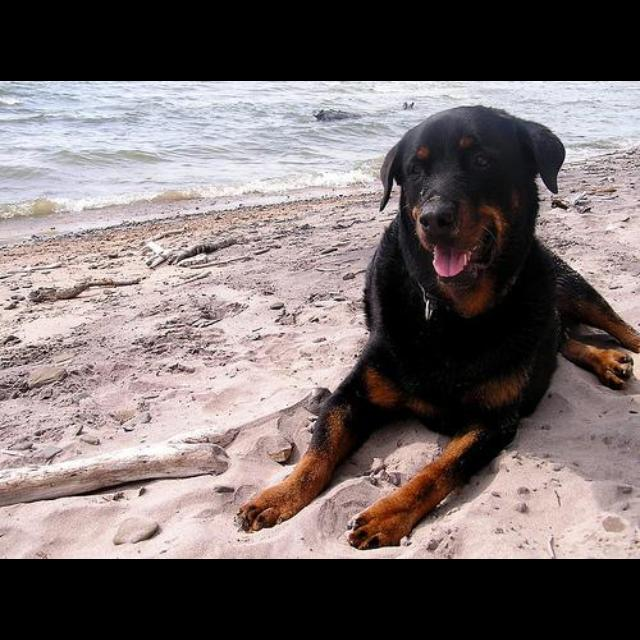rottweiler: (235, 104, 639, 552)
